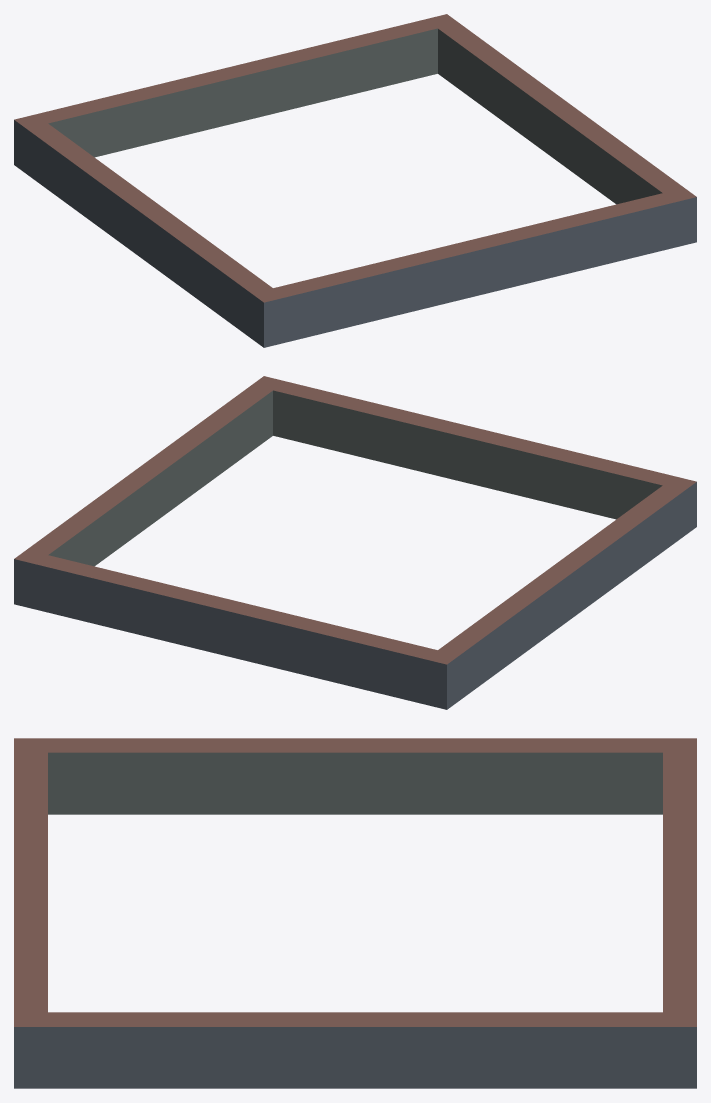
The model's file is Floor_hole_square.fbx.
3 views of the same model, one above another, from view 1: azimuth 30°, elevation 25°; view 2: azimuth 150°, elevation 25°; view 3: azimuth 270°, elevation 25° (orthographic). The views are drawn at different scales.
Parts seen in each view (by area): view 1: Cube; view 2: Cube; view 3: Cube.
Part boxes in pixels (x1,y1,x2,y2): Cube: (14,14,696,347); Cube: (14,376,696,709); Cube: (14,738,696,1088).
Size of the model in its own units: 100 by 10 by 100.
